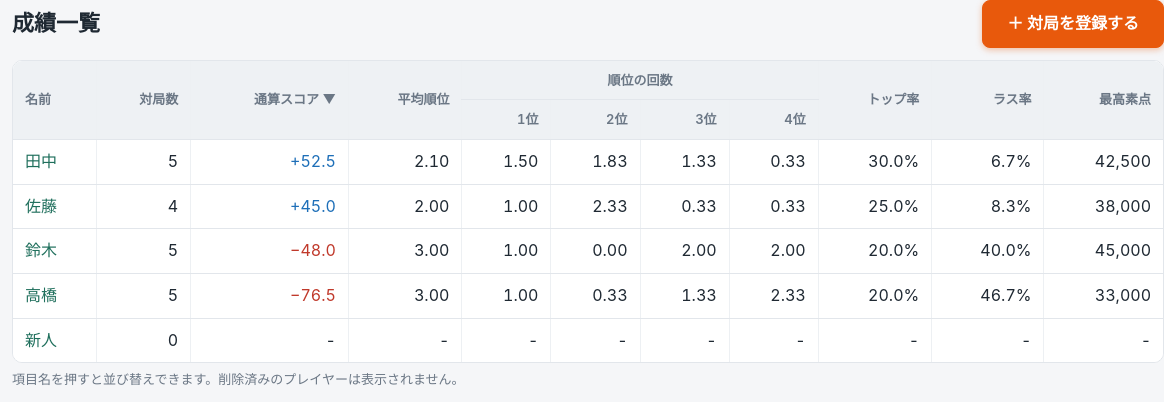
Test case: 並び替え › トップ率を押すと、高い順に並ぶ。通算スコアの印は消える
This screenshot has width=1164, height=402.
Expected: the link "田中" is shown, [25,151,57,171]
Click the button "トップ率".
click(893, 100)  # box [867,90,919,110]
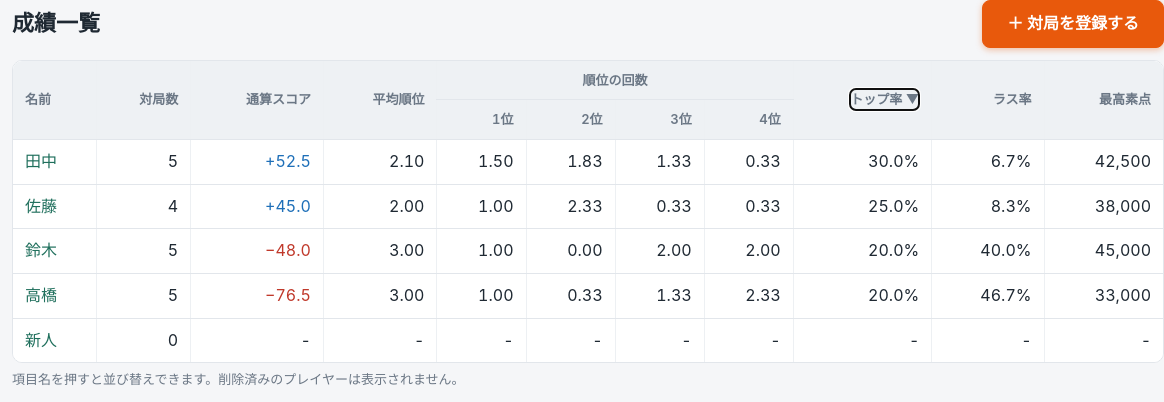
Expected: the button "トップ率 ▼" is shown, [850,90,919,110]
